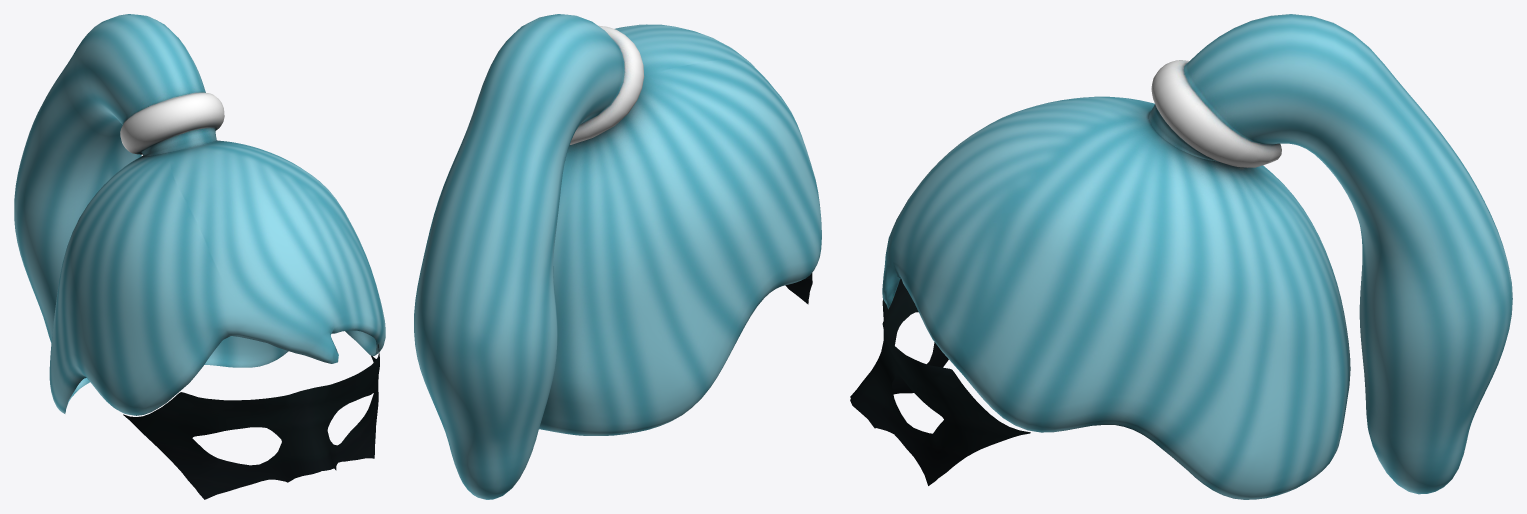
File: flame-hairs-mask2.fbx
3 views of the same model, side by side, from view 1: azimuth 30°, elevation 25°; view 2: azimuth 150°, elevation 25°; view 3: azimuth 270°, elevation 25° (orthographic). The views are drawn at different scales.
Parts seen in each view (by area): view 1: Flame_Hair_and_Mask:ZBrush_defualt_group; view 2: Flame_Hair_and_Mask:ZBrush_defualt_group; view 3: Flame_Hair_and_Mask:ZBrush_defualt_group.
Boxes of the visible parts, bbox=[...] form: Flame_Hair_and_Mask:ZBrush_defualt_group: bbox=[14, 14, 385, 499]; Flame_Hair_and_Mask:ZBrush_defualt_group: bbox=[414, 14, 821, 499]; Flame_Hair_and_Mask:ZBrush_defualt_group: bbox=[850, 14, 1512, 499].
Size of the model in its own units: 1.31 by 1.8 by 2.29.
Materials: 1 (1 with a texture image).
